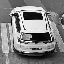motor: (7, 6, 54, 57)
